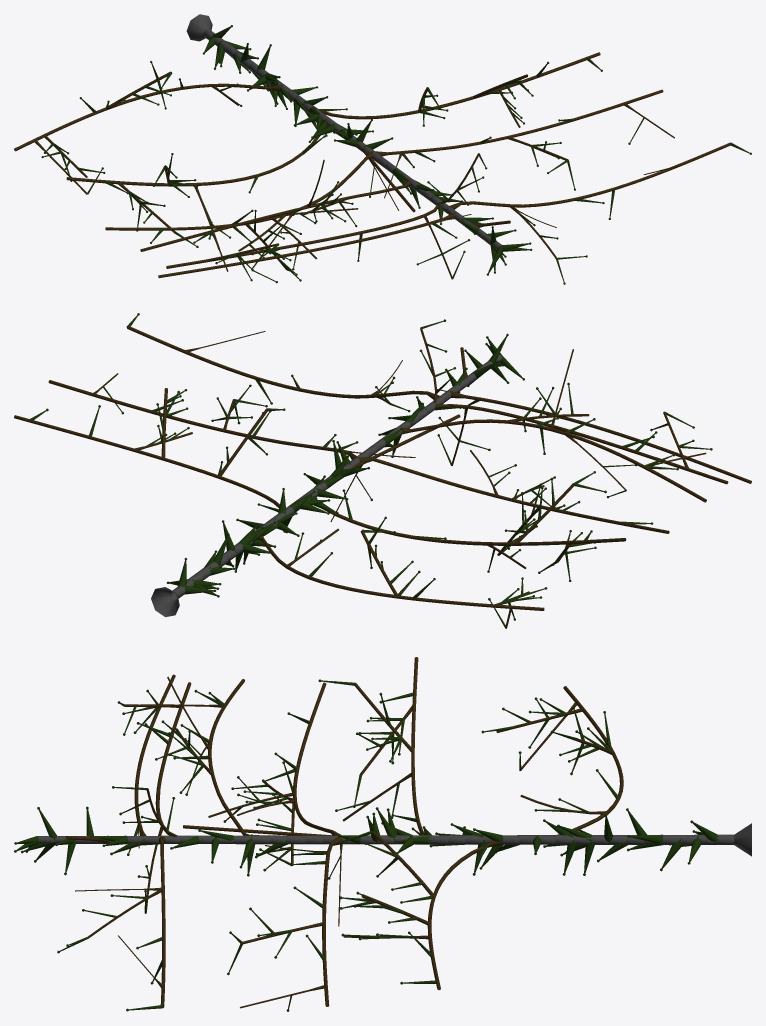
File: tree_9.obj
3 views of the same model, one above another, from view 1: azimuth 30°, elevation 25°; view 2: azimuth 150°, elevation 25°; view 3: azimuth 270°, elevation 25° (orthographic). The views are drawn at different scales.
Bounding box in the file's own units: 4.39 × 1.14 × 4.13.
